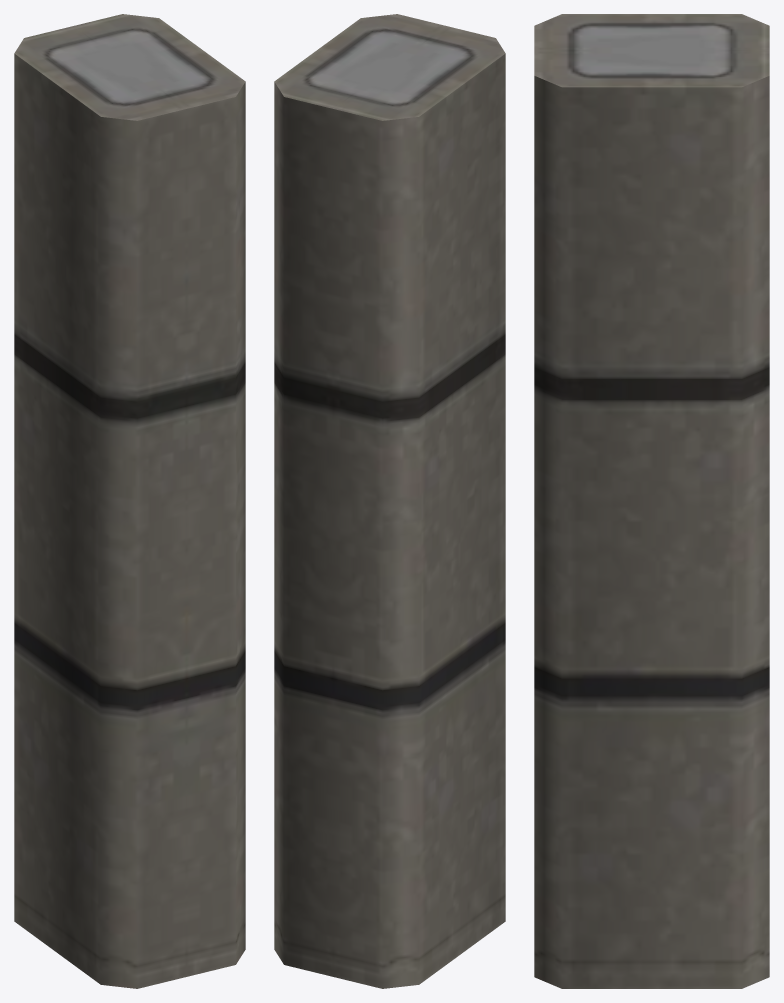
File: Part - Column 01-B-_yKqbt.glb
3 views of the same model, side by side, from view 1: azimuth 30°, elevation 25°; view 2: azimuth 150°, elevation 25°; view 3: azimuth 270°, elevation 25° (orthographic). The views are drawn at different scales.
Parts seen in each view (by area): view 1: Column_01; view 2: Column_01; view 3: Column_01.
Part boxes in pixels (<box>): Column_01: <box>14,14,245,988</box>; Column_01: <box>274,14,505,988</box>; Column_01: <box>534,14,769,988</box>.
Bounding box in the file's own units: 0.1746 × 1 × 0.2365.
1 material, 1 textured.
